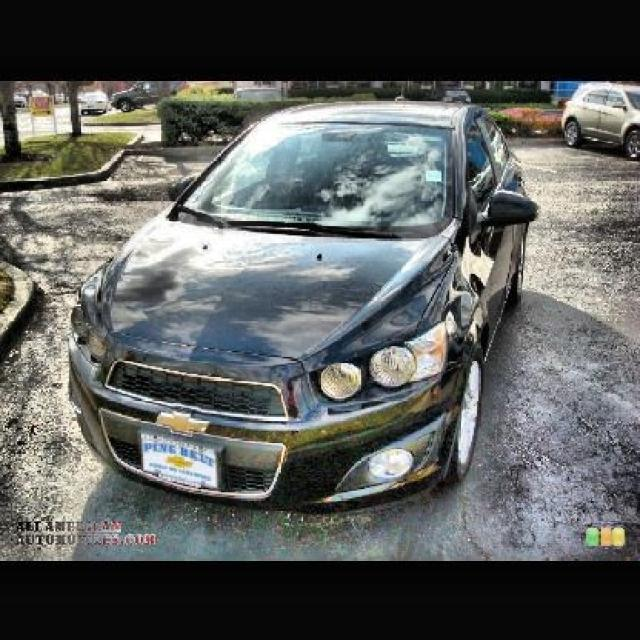black: (66, 105, 526, 506)
